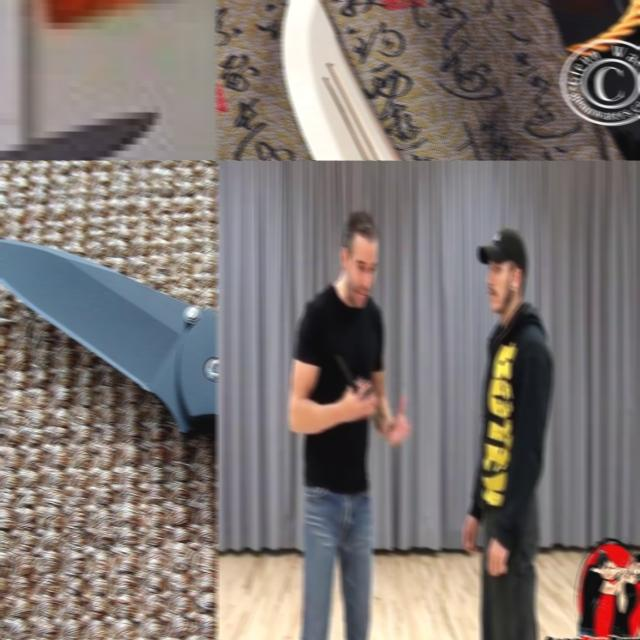Knife_Handle: (0, 109, 161, 160), (336, 352, 376, 421)
